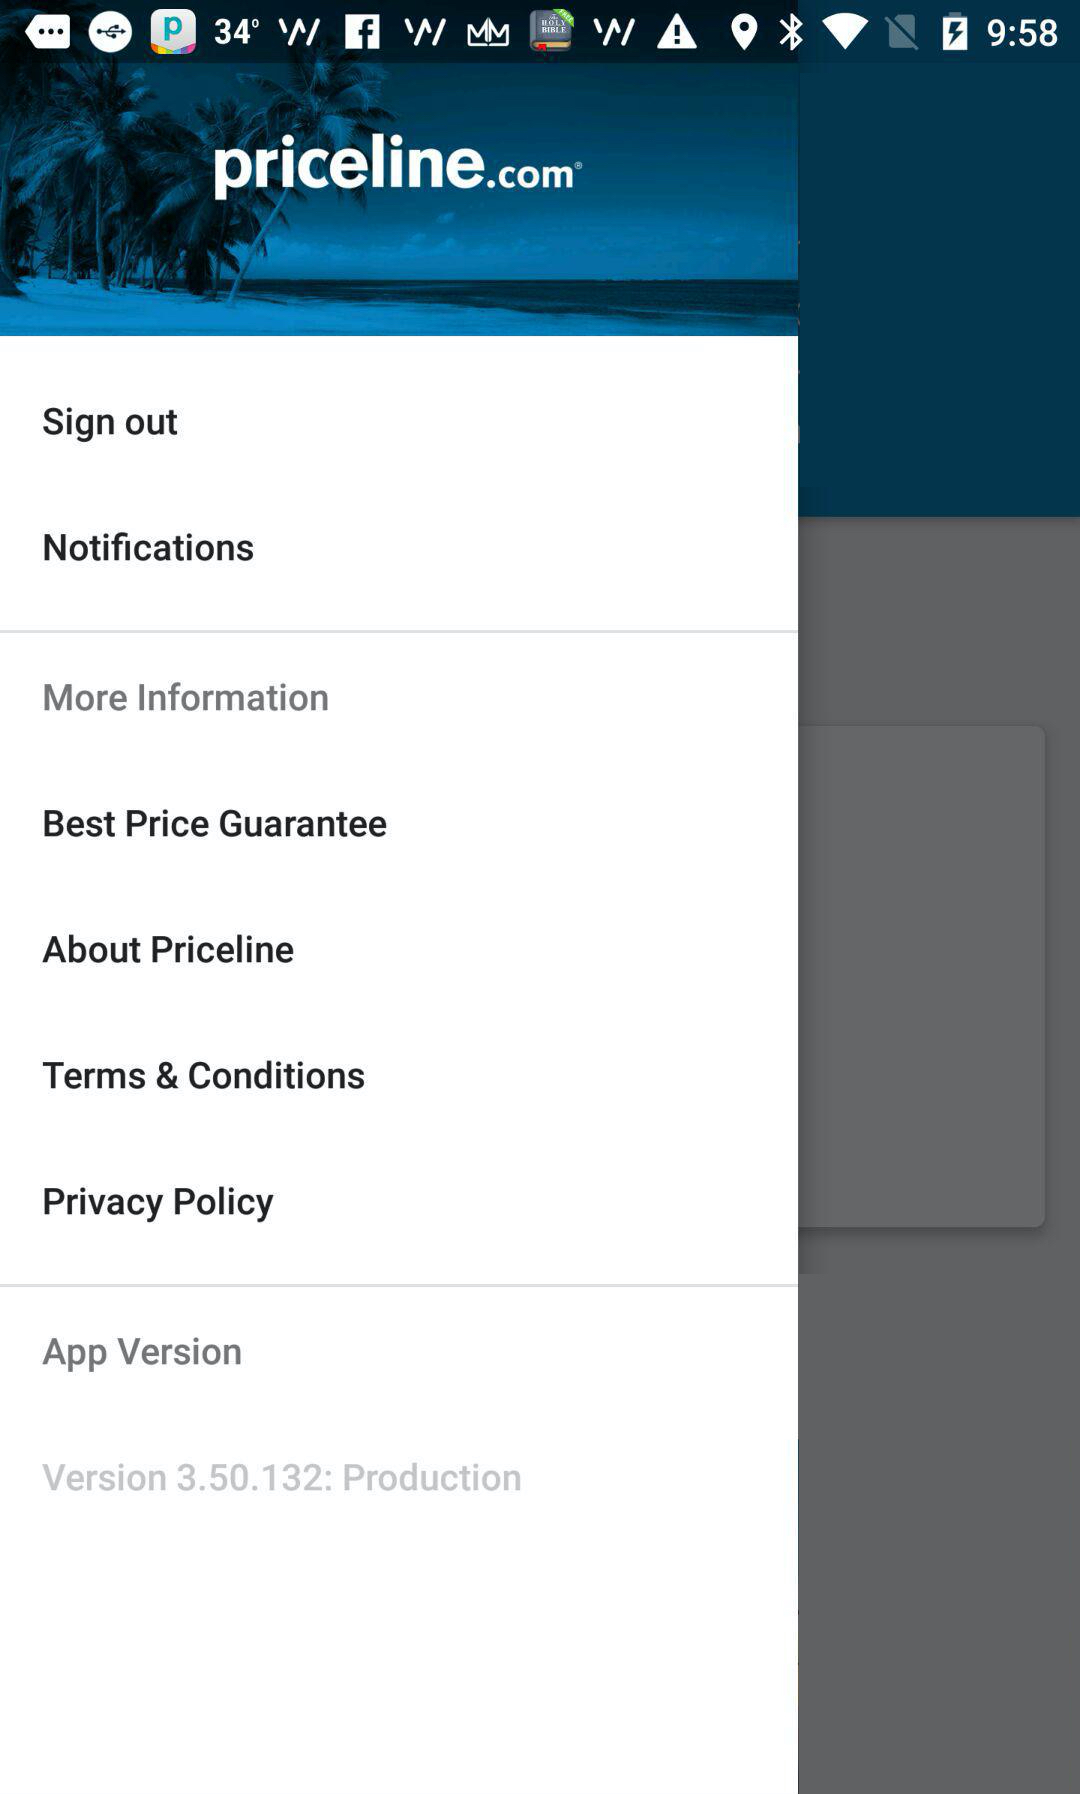Drawer: (1, 60, 799, 1794)
Image: (1, 60, 797, 337), (214, 133, 584, 202)
Text: (41, 1461, 521, 1493), (44, 809, 388, 839), (42, 1058, 366, 1090), (44, 680, 331, 712), (44, 1185, 275, 1224), (42, 933, 295, 965), (42, 1337, 243, 1372), (44, 531, 255, 563), (44, 406, 179, 443)
UpperTaskBar: (1, 1, 1080, 64)
